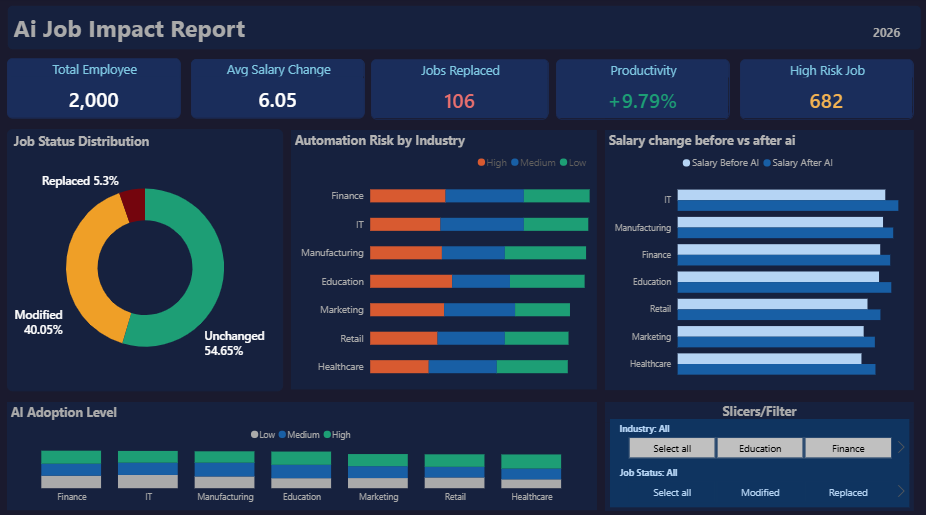

Layout of this report page (visuals, bound fields, positions):
{"tool":"powerbi","page":{"name":"Page 1","canvas":[1280,720],"ordinal":0},"visuals":[{"type":"group","id":"g1","title":"Background","box":[9.6,84,1247.5,81.9],"z":0},{"type":"textbox","box":[9.6,11,1259.4,61.9],"z":1000},{"type":"cardVisual","title":"Bg5","fields":{"Data":["ai_job_impact_clean.High Automation Risk"]},"box":[1018.2,85.9,238.8,80.1],"z":1000,"group":"g1"},{"type":"donutChart","title":"Job Status Distribution","fields":{"Category":["ai_job_impact_clean.Job_Status"],"Y":["CountNonNull(ai_job_impact_clean.Employee_ID)"]},"box":[9.6,181.7,379.9,360.6],"z":2000},{"type":"cardVisual","title":"Avg Salary Change","fields":{"Data":["ai_job_impact_clean.Avg Salary Change %"]},"box":[263.2,85.4,239.3,82],"z":3000},{"type":"columnChart","title":"AI Adoption Level ","fields":{"Category":["ai_job_impact_clean.Industry"],"Y":["CountNonNull(ai_job_impact_clean.Employee_ID)"],"Series":["ai_job_impact_clean.AI_Adoption_Level"]},"box":[9.6,557.4,812,148.6],"z":4000},{"type":"cardVisual","title":"Total Employee","fields":{"Data":["Count(ai_job_impact_clean.Employee_ID)"]},"box":[10.3,85.4,239.3,82],"z":5000},{"type":"cardVisual","title":"Bg1","fields":{"Data":["Count(ai_job_impact_clean.Employee_ID)"]},"box":[9.6,84,239.5,81.2],"z":6000,"group":"g1"},{"type":"barChart","title":"Automation Risk by Industry","fields":{"Category":["ai_job_impact_clean.Industry"],"Series":["ai_job_impact_clean.Automation_Risk"],"Y":["CountNonNull(ai_job_impact_clean.Employee_ID)"]},"box":[400.5,183.1,421.2,357],"z":6000},{"type":"clusteredBarChart","title":"Salary change before vs after ai","fields":{"Y":["Sum(ai_job_impact_clean.Salary_Before_AI)","Sum(ai_job_impact_clean.Salary_After_AI)"],"Category":["ai_job_impact_clean.Industry"]},"box":[832.7,183.1,425.3,357.8],"z":7000},{"type":"cardVisual","title":"Bg2","fields":{"Data":["Count(ai_job_impact_clean.Employee_ID)"]},"box":[263.1,85.9,238.8,80.1],"z":8000,"group":"g1"},{"type":"cardVisual","title":"Jobs Replaced","fields":{"Data":["ai_job_impact_clean.Jobs Replaced"]},"box":[510.9,86.1,244.1,81.9],"z":8000},{"type":"cardVisual","title":"Bg4","fields":{"Data":["ai_job_impact_clean.Productivity_Formatted"]},"box":[765.1,85.9,238.8,80.1],"z":9000,"group":"g1"},{"type":"cardVisual","title":"Productivity","fields":{"Data":["ai_job_impact_clean.Productivity_Formatted"]},"box":[764.9,86.1,238.5,81.9],"z":9000},{"type":"cardVisual","title":"Bg3","fields":{"Data":["ai_job_impact_clean.Jobs Replaced"]},"box":[510.5,85.9,244.6,80.1],"z":10000,"group":"g1"},{"type":"cardVisual","title":"High Risk Job","fields":{"Data":["ai_job_impact_clean.High Automation Risk"]},"box":[1018.9,86.1,238.5,81.9],"z":10000},{"type":"shape","title":"Slicers/Filter","box":[833,557,425,150],"z":11000},{"type":"slicer","fields":{"Values":["ai_job_impact_clean.Industry"]},"box":[839.8,580.3,411.5,60.6],"z":12000},{"type":"slicer","fields":{"Values":["ai_job_impact_clean.Job_Status"]},"box":[839.8,640.9,411.5,60.6],"z":12001}]}

Visuals, with their boxes in screenshot pixels (x1, y1, x2, y2), scaled from the page's 1280x720 canvas onto the 926x515 screenshot:
"Background" group: bbox(7, 60, 909, 119)
textbox: bbox(7, 8, 918, 52)
"Bg5" cardVisual: bbox(737, 61, 909, 119)
"Job Status Distribution" donutChart: bbox(7, 130, 282, 388)
"Avg Salary Change" cardVisual: bbox(190, 61, 364, 120)
"AI Adoption Level " columnChart: bbox(7, 399, 594, 505)
"Total Employee" cardVisual: bbox(7, 61, 181, 120)
"Bg1" cardVisual: bbox(7, 60, 180, 118)
"Automation Risk by Industry" barChart: bbox(290, 131, 594, 386)
"Salary change before vs after ai" clusteredBarChart: bbox(602, 131, 910, 387)
"Bg2" cardVisual: bbox(190, 61, 363, 119)
"Jobs Replaced" cardVisual: bbox(370, 62, 546, 120)
"Bg4" cardVisual: bbox(554, 61, 726, 119)
"Productivity" cardVisual: bbox(553, 62, 726, 120)
"Bg3" cardVisual: bbox(369, 61, 546, 119)
"High Risk Job" cardVisual: bbox(737, 62, 910, 120)
"Slicers/Filter" shape: bbox(603, 398, 910, 506)
slicer - ai_job_impact_clean.Industry: bbox(608, 415, 905, 458)
slicer - ai_job_impact_clean.Job_Status: bbox(608, 458, 905, 502)
